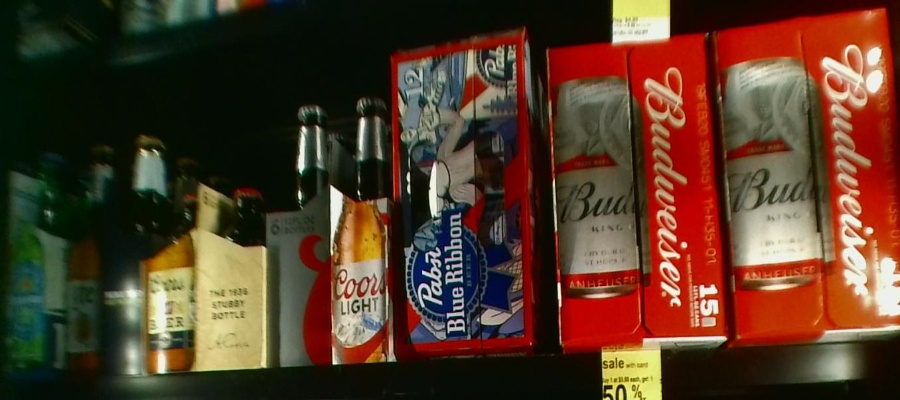bottle: (715, 17, 900, 332), (549, 44, 729, 336), (394, 35, 542, 353), (269, 90, 395, 358), (148, 177, 269, 365), (104, 134, 145, 371), (67, 159, 103, 377)
